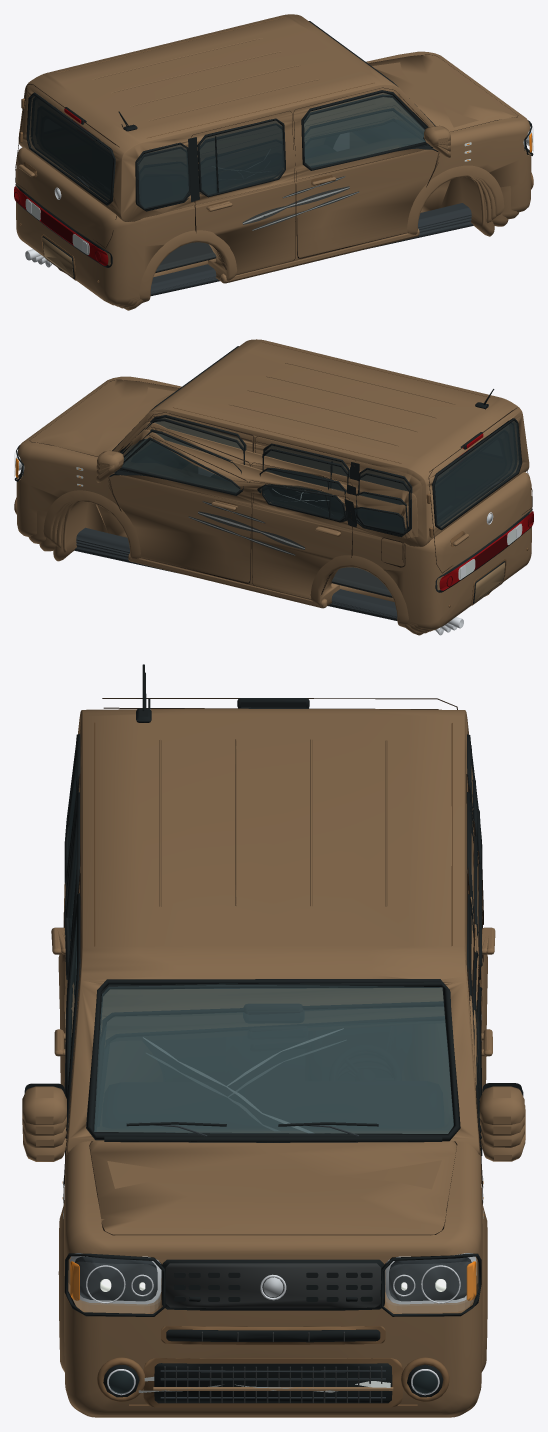
The model's file is nissan_cube_damage.glb.
The picture shows the model from 3 angles, top to bottom: view 1: azimuth 30°, elevation 25°; view 2: azimuth 150°, elevation 25°; view 3: azimuth 270°, elevation 25°; orthographic projection. The views are drawn at different scales.
Visible parts, largest first — view 1: ScuffedBrownBodywork, ScuffedWraparoundGlazing, DentedWraparoundGlazing, ScuffedRubberTrimAndUnderbody, BatteredBrownBodywork, DentedRubberTrimAndUnderbody, CrumpledBrownBodywork, DentedBrownBodywork, ScuffedHeadlightsAndIndicators, BatteredRubberTrimAndUnderbody, CrumpledRubberTrimAndUnderbody, ScuffedRearBrakeLights (+3 smaller); view 2: ScuffedBrownBodywork, ScuffedWraparoundGlazing, ScuffedRubberTrimAndUnderbody, DentedWraparoundGlazing, BatteredBrownBodywork, CrumpledBrownBodywork, BatteredWraparoundGlazing, DentedBrownBodywork, CrumpledWraparoundGlazing, DentedRubberTrimAndUnderbody, BatteredRubberTrimAndUnderbody, CrumpledRubberTrimAndUnderbody (+3 smaller); view 3: ScuffedBrownBodywork, ScuffedWraparoundGlazing, DentedWraparoundGlazing, ScuffedRubberTrimAndUnderbody, CrumpledBrownBodywork, ScuffedLampGlazing, DentedRubberTrimAndUnderbody, BatteredBrownBodywork, CrumpledRubberTrimAndUnderbody, ScuffedHeadlightsAndIndicators, DentedBrownBodywork, ScuffedChromeHandlesGrilleAndBadges (+2 smaller).
Part boxes in pixels (<box>): ScuffedBrownBodywork: <box>16,14,533,305</box>; ScuffedWraparoundGlazing: <box>27,93,425,207</box>; DentedWraparoundGlazing: <box>32,97,424,207</box>; ScuffedRubberTrimAndUnderbody: <box>15,21,533,291</box>; BatteredBrownBodywork: <box>124,112,494,310</box>; DentedRubberTrimAndUnderbody: <box>31,86,471,292</box>; CrumpledBrownBodywork: <box>58,97,508,308</box>; DentedBrownBodywork: <box>36,93,518,306</box>; ScuffedHeadlightsAndIndicators: <box>14,131,532,262</box>; BatteredRubberTrimAndUnderbody: <box>146,139,473,295</box>; CrumpledRubberTrimAndUnderbody: <box>88,108,471,292</box>; ScuffedRearBrakeLights: <box>14,108,108,265</box>; ScuffedBrownBodywork: <box>14,339,531,630</box>; ScuffedWraparoundGlazing: <box>128,417,519,527</box>; ScuffedRubberTrimAndUnderbody: <box>14,346,532,616</box>; DentedWraparoundGlazing: <box>130,421,515,525</box>; BatteredBrownBodywork: <box>53,429,423,635</box>; CrumpledBrownBodywork: <box>39,421,506,633</box>; BatteredWraparoundGlazing: <box>122,439,404,532</box>; DentedBrownBodywork: <box>28,411,510,631</box>; CrumpledWraparoundGlazing: <box>123,433,406,532</box>; DentedRubberTrimAndUnderbody: <box>76,392,517,617</box>; BatteredRubberTrimAndUnderbody: <box>74,434,405,620</box>; CrumpledRubberTrimAndUnderbody: <box>76,404,488,617</box>; ScuffedBrownBodywork: <box>22,708,524,1415</box>; ScuffedWraparoundGlazing: <box>67,758,453,1394</box>; DentedWraparoundGlazing: <box>68,773,453,1133</box>; ScuffedRubberTrimAndUnderbody: <box>24,664,483,1403</box>; CrumpledBrownBodywork: <box>22,766,525,1416</box>; ScuffedLampGlazing: <box>71,1262,475,1312</box>; DentedRubberTrimAndUnderbody: <box>25,672,521,1264</box>; BatteredBrownBodywork: <box>23,851,525,1417</box>; CrumpledRubberTrimAndUnderbody: <box>62,698,522,1185</box>; ScuffedHeadlightsAndIndicators: <box>62,1178,483,1304</box>; DentedBrownBodywork: <box>22,721,524,1415</box>; ScuffedChromeHandlesGrilleAndBadges: <box>86,1265,460,1395</box>.
Size of the model in its own units: 4.14 by 1.82 by 2.06.
